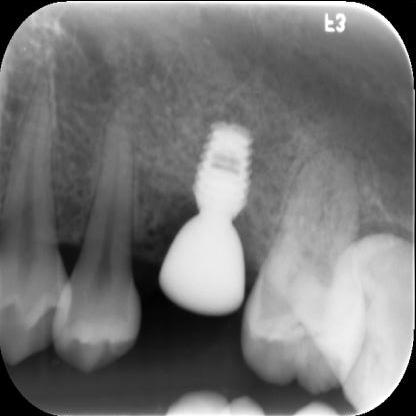Bicon: (176, 91, 268, 236)
